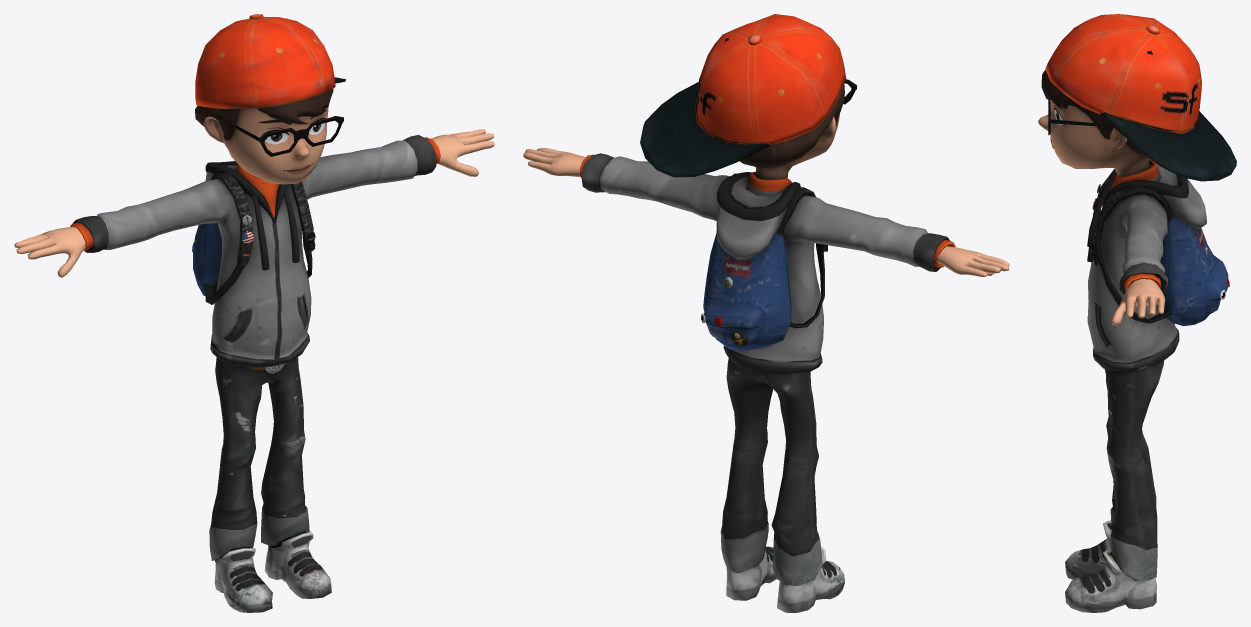
Rendered from boy.glb.
3 renders of one model, left to right at view 1: azimuth 30°, elevation 25°; view 2: azimuth 150°, elevation 25°; view 3: azimuth 270°, elevation 25°, orthographic.
Visible parts, largest first — view 1: Body (BlendTheCube.com); view 2: Body (BlendTheCube.com); view 3: Body (BlendTheCube.com).
Part boxes in pixels (x1=…): Body (BlendTheCube.com): x1=14, y1=14, x2=494, y2=612; Body (BlendTheCube.com): x1=523, y1=14, x2=1009, y2=612; Body (BlendTheCube.com): x1=1038, y1=14, x2=1236, y2=612.
Size of the model in its own units: 1.11 by 1.25 by 0.3962.
2 materials, 2 textured.
